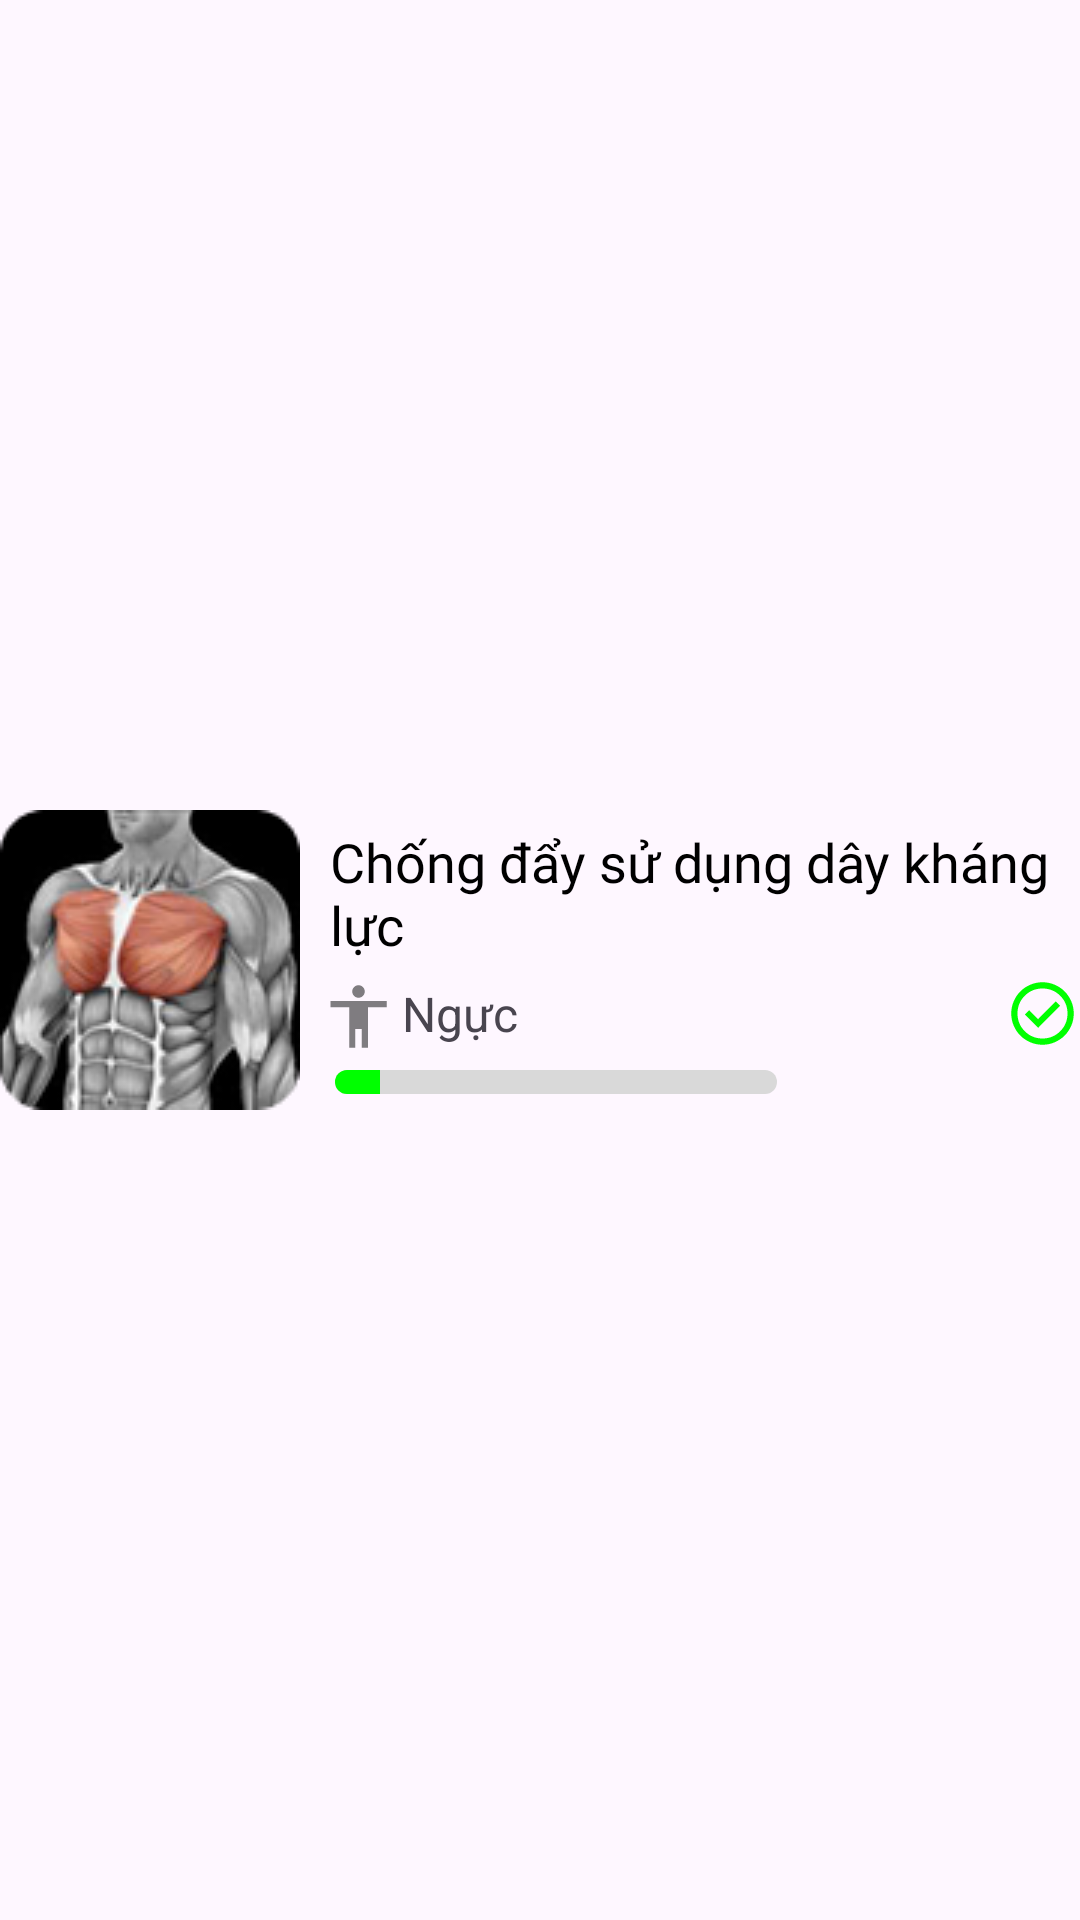

Locate icon controls on the screen. Image size 1080w x 1920h, boxes as [x1=x1, y1=y1, x2=x2, y2=y2].
accessibility: [x1=330, y1=985, x2=387, y2=1048]
check circle: [x1=1011, y1=982, x2=1074, y2=1045]
